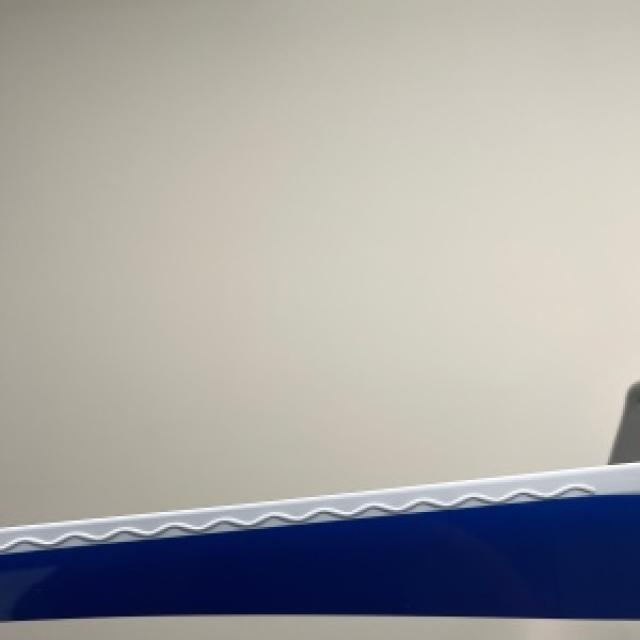healthy: (0, 384, 638, 638)
